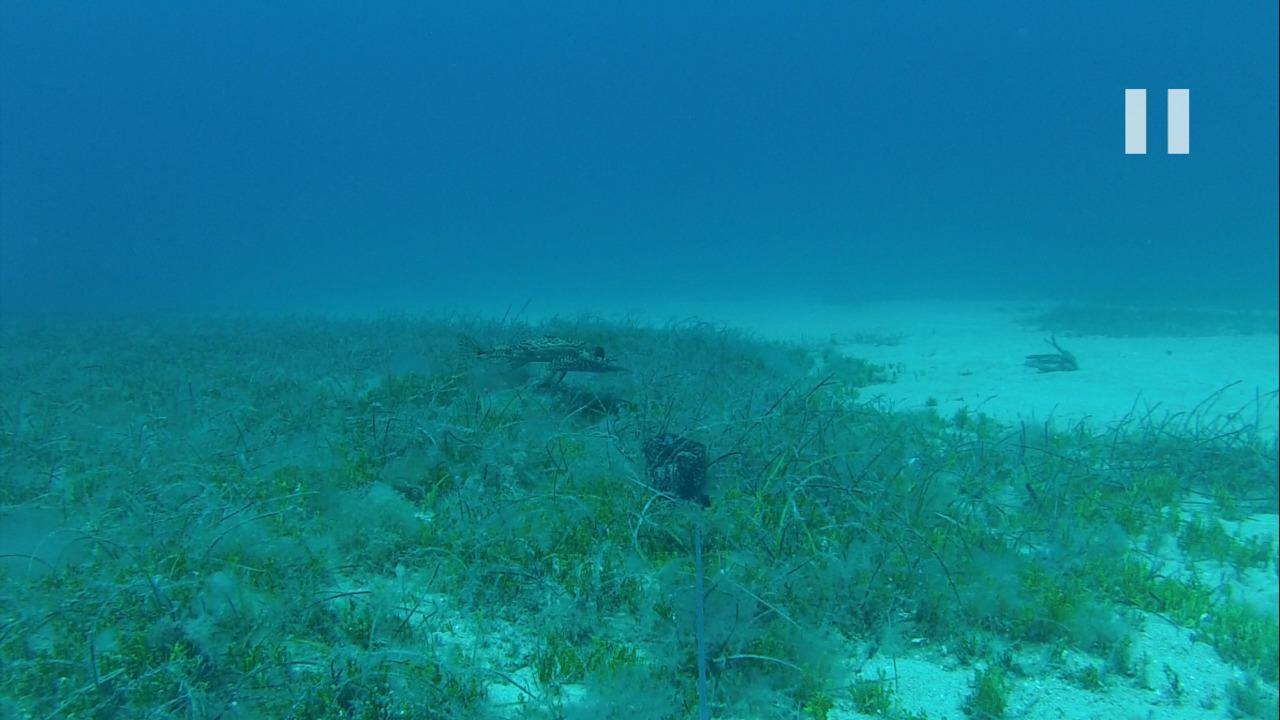dactylopterus: (442, 329, 630, 395)
